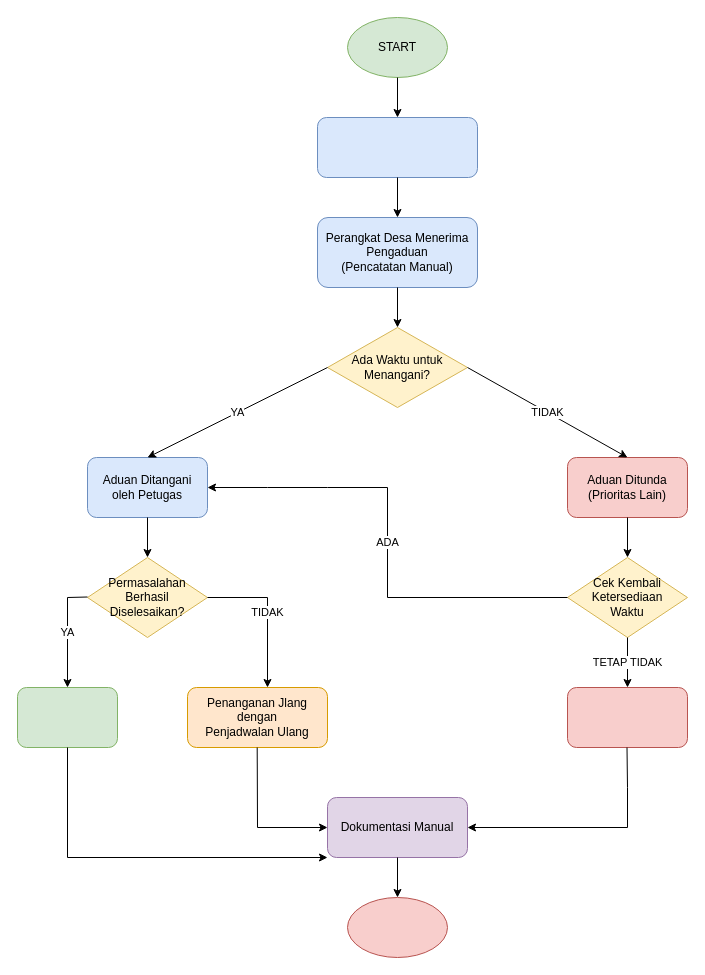
Image size: 705x975. Some labels were removed from this diagram. Here are the shapes that lost their labels. From the top down, the centre of each, then its label:
At (x=397, y=147): "Warga Mengadu (Langsung/WhatsApp)".
At (x=67, y=717): "Permasalahan TERTANGANI".
At (x=627, y=717): "Permasalahan TIDAK TERTANGANI (DITOLAK)".
At (x=397, y=927): "END".
